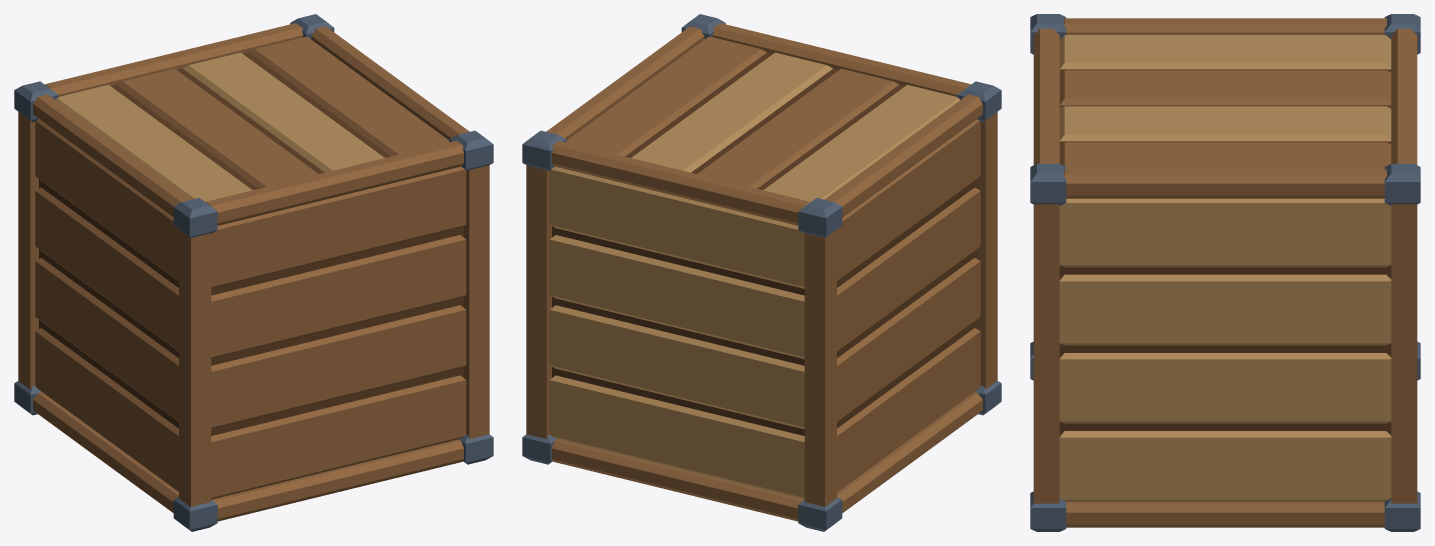
The model's file is Crate_04.glb.
The picture shows the model from 3 angles, left to right: view 1: azimuth 30°, elevation 25°; view 2: azimuth 150°, elevation 25°; view 3: azimuth 270°, elevation 25°; orthographic projection. The views are drawn at different scales.
Visible parts, largest first — view 1: Crate_04; view 2: Crate_04; view 3: Crate_04.
Part boxes in pixels (x1,y1,x2,y2): Crate_04: (14, 14, 493, 531); Crate_04: (522, 14, 1001, 531); Crate_04: (1030, 14, 1420, 531).
Bounding box in the file's own units: 2.39 × 2.42 × 2.39.
